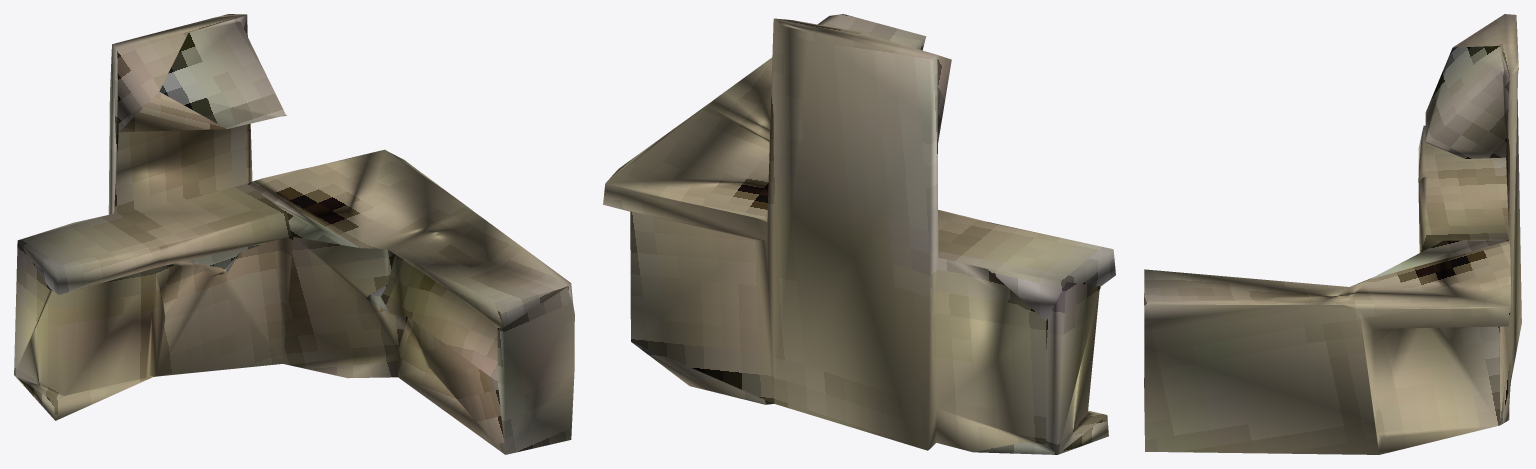
File: KITCHEN_SET_CLASSIC_40HwCHfeG0H-low.glb
3 renders of one model, left to right at view 1: azimuth 30°, elevation 25°; view 2: azimuth 150°, elevation 25°; view 3: azimuth 270°, elevation 25°, orthographic. The views are drawn at different scales.
Visible parts, largest first — view 1: KITCHEN_SET_CLASSIC_40HwCHfeG0H; view 2: KITCHEN_SET_CLASSIC_40HwCHfeG0H; view 3: KITCHEN_SET_CLASSIC_40HwCHfeG0H.
Boxes of the visible parts, x1=… form: KITCHEN_SET_CLASSIC_40HwCHfeG0H: x1=14, y1=14, x2=574, y2=454; KITCHEN_SET_CLASSIC_40HwCHfeG0H: x1=603, y1=14, x2=1115, y2=454; KITCHEN_SET_CLASSIC_40HwCHfeG0H: x1=1144, y1=14, x2=1521, y2=454.
Size of the model in its own units: 0.1853 by 0.1508 by 0.1653.
1 material, 1 textured.
